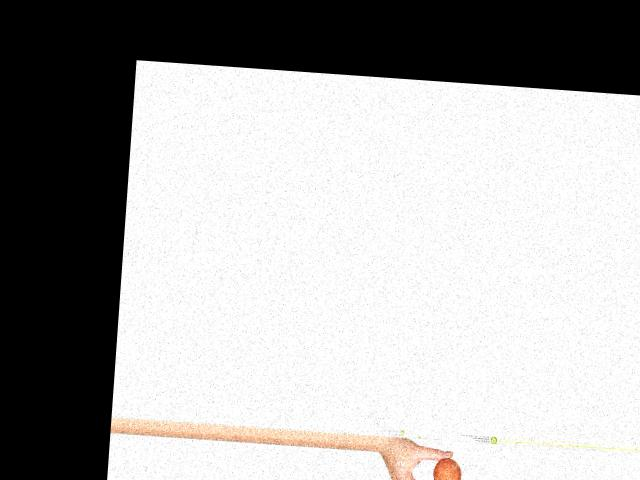egg: (431, 456, 462, 480)
